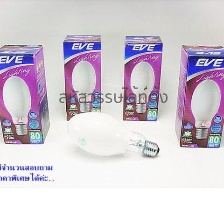carton: (0, 40, 53, 148), (172, 42, 223, 150), (120, 34, 164, 125), (61, 32, 105, 123)
light_bulb: (62, 110, 161, 160)
